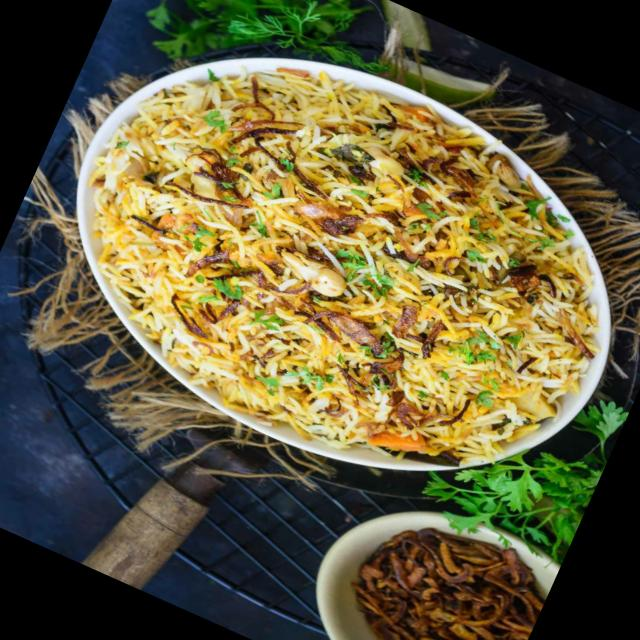Biryani: (19, 0, 640, 543)
